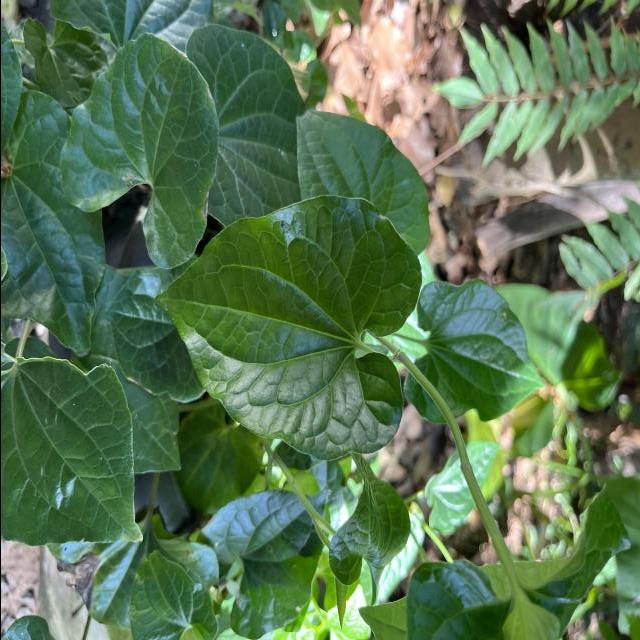Piper longum: (152, 193, 423, 463)
